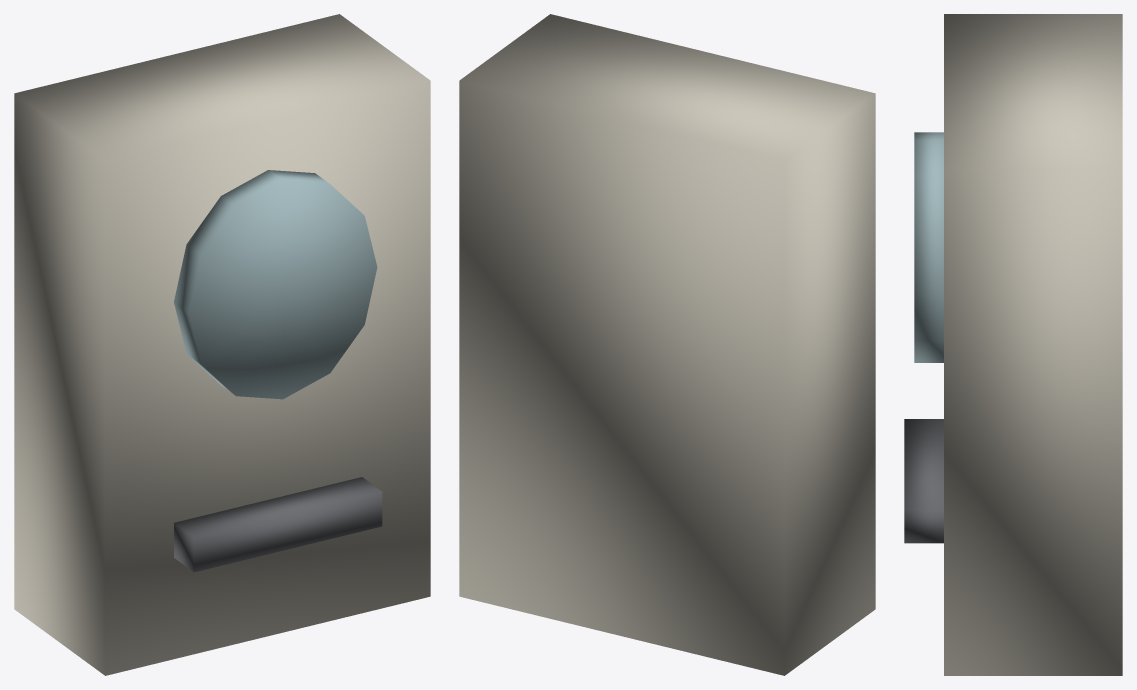
File: employee_punch_clock__compact.glb
3 renders of one model, left to right at view 1: azimuth 30°, elevation 25°; view 2: azimuth 150°, elevation 25°; view 3: azimuth 270°, elevation 25°, orthographic.
Parts seen in each view (by area): view 1: world; view 2: world; view 3: world.
Boxes of the visible parts, box(x1,y1,x2,y2) form: world: box(14, 14, 430, 675); world: box(459, 14, 875, 675); world: box(904, 14, 1122, 675).
Bounding box in the file's own units: 0.3192 × 0.4836 × 0.1892.
